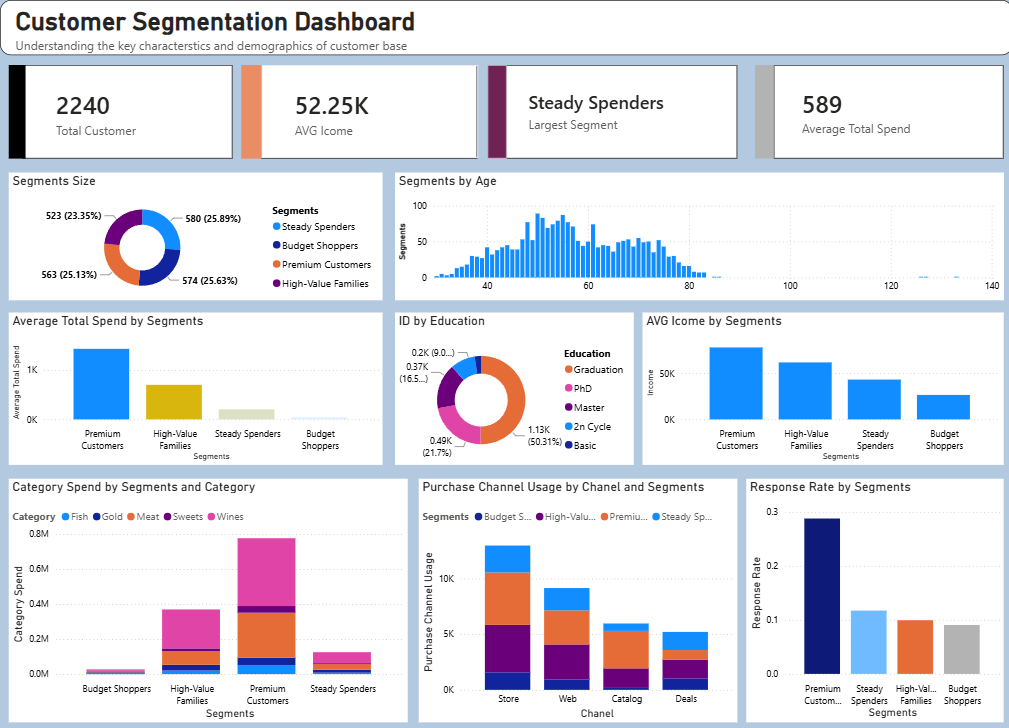

What the dashboard file says about the page in this screenshot:
{"tool":"powerbi","page":{"name":"Page 1","canvas":[1350,971],"ordinal":0},"visuals":[{"type":"textbox","title":"Customer Segmentation Dashboard","box":[0,0,1350,73.3],"z":0},{"type":"cardVisual","title":"Total Customers","fields":{"Data":["marketing_campaign.Total Customer"]},"box":[30,86.7,280,125],"z":1000},{"type":"textbox","box":[12.2,86.1,22.2,125],"z":2000},{"type":"cardVisual","fields":{"Data":["marketing_campaign.Avg Income"]},"box":[348.3,86.7,288.3,125],"z":3000},{"type":"textbox","box":[321.7,86.7,26.7,125],"z":4000},{"type":"cardVisual","fields":{"Data":["marketing_campaign.Largest Segment"]},"box":[675,86.7,308.3,125],"z":5000},{"type":"textbox","box":[650,86.7,25.4,124.6],"z":5001},{"type":"cardVisual","fields":{"Data":["marketing_campaign.Average Total Spend"]},"box":[1031.7,86.7,306.7,125],"z":5002},{"type":"textbox","box":[1006.7,86.7,25,125],"z":5003},{"type":"donutChart","title":"Segments Size","fields":{"Y":["marketing_campaign.segment count"],"Category":["marketing_campaign.Segments"]},"box":[11.7,230,498.3,170],"z":5004},{"type":"columnChart","fields":{"Y":["marketing_campaign.AVG Icome"],"Category":["marketing_campaign.Segments"]},"box":[856.7,416.7,481.7,203.3],"z":5005},{"type":"columnChart","fields":{"Y":["marketing_campaign.Average Total Spend"],"Category":["marketing_campaign.Segments"]},"box":[11.7,416.7,498.3,203.3],"z":5006},{"type":"columnChart","fields":{"Y":["Table.Category Spend"],"Category":["marketing_campaign.Segments"],"Series":["Table.Category"]},"box":[11.7,638.3,531.7,325],"z":5007},{"type":"columnChart","fields":{"Y":["marketing_campaign.Purchase Channel Usage"],"Category":["Purchase Channel.Chanel"],"Series":["marketing_campaign.Segments"]},"box":[558.3,638.3,425,325],"z":5008},{"type":"columnChart","fields":{"Category":["marketing_campaign.Segments"],"Y":["marketing_campaign.Response Rate"]},"box":[995,638.3,343.3,325],"z":5009},{"type":"columnChart","title":"Segments by Age","fields":{"Category":["marketing_campaign.Age"],"Y":["CountNonNull(marketing_campaign.Segments)"]},"box":[526.7,230,811.7,170],"z":5010},{"type":"donutChart","title":"ID by Education","fields":{"Category":["marketing_campaign.Education"],"Y":["CountNonNull(marketing_campaign.ID)"]},"box":[526.7,416.7,318.3,203.3],"z":5011}]}

Visuals, with their boxes in screenshot pixels (x1, y1, x2, y2), scaled from the page's 1350x971 canvas onto the 1009x728 screenshot:
"Customer Segmentation Dashboard" textbox: 0 0 1008 55
"Total Customers" cardVisual: 22 65 232 159
textbox: 9 65 26 158
cardVisual - marketing_campaign.Avg Income: 260 65 476 159
textbox: 240 65 260 159
cardVisual - marketing_campaign.Largest Segment: 504 65 735 159
textbox: 486 65 505 158
cardVisual - marketing_campaign.Average Total Spend: 771 65 1000 159
textbox: 752 65 771 159
"Segments Size" donutChart: 9 172 381 300
columnChart - marketing_campaign.AVG Icome x marketing_campaign.Segments: 640 312 1000 465
columnChart - marketing_campaign.Average Total Spend x marketing_campaign.Segments: 9 312 381 465
columnChart - Table.Category Spend x marketing_campaign.Segments: 9 479 406 722
columnChart - marketing_campaign.Purchase Channel Usage x Purchase Channel.Chanel: 417 479 735 722
columnChart - marketing_campaign.Segments x marketing_campaign.Response Rate: 744 479 1000 722
"Segments by Age" columnChart: 394 172 1000 300
"ID by Education" donutChart: 394 312 632 465
